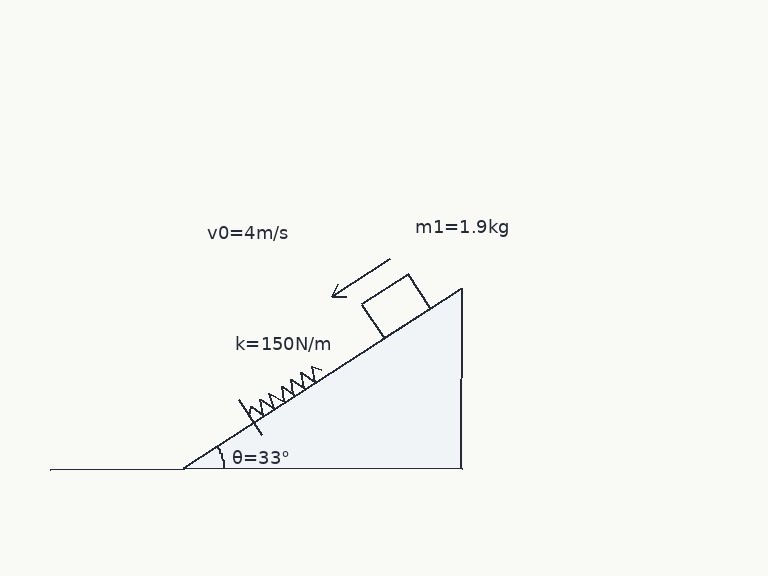block: (359, 272, 432, 340)
ramp: (182, 285, 464, 470)
spring: (247, 364, 323, 417)
